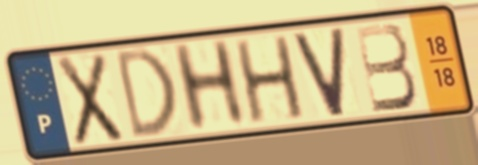B: (351, 20, 421, 115)
D: (112, 44, 180, 143)
H: (167, 36, 251, 136), (231, 32, 309, 127)
V: (289, 24, 348, 121)
X: (53, 50, 126, 150)
